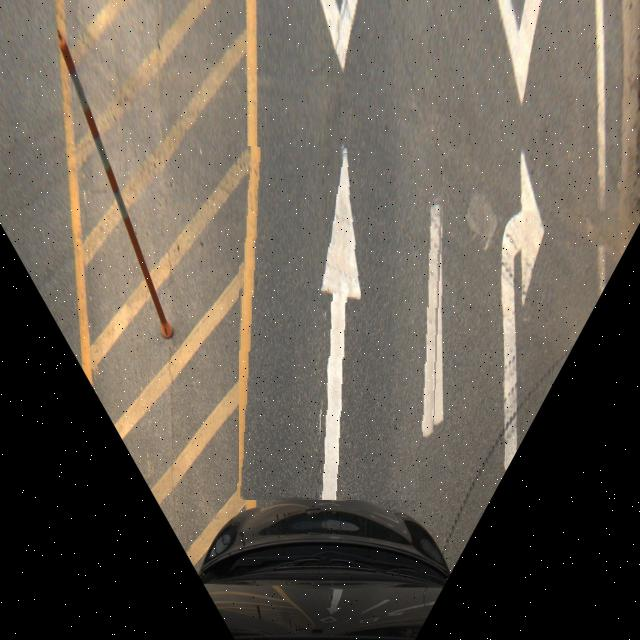forward: (239, 147, 444, 500)
